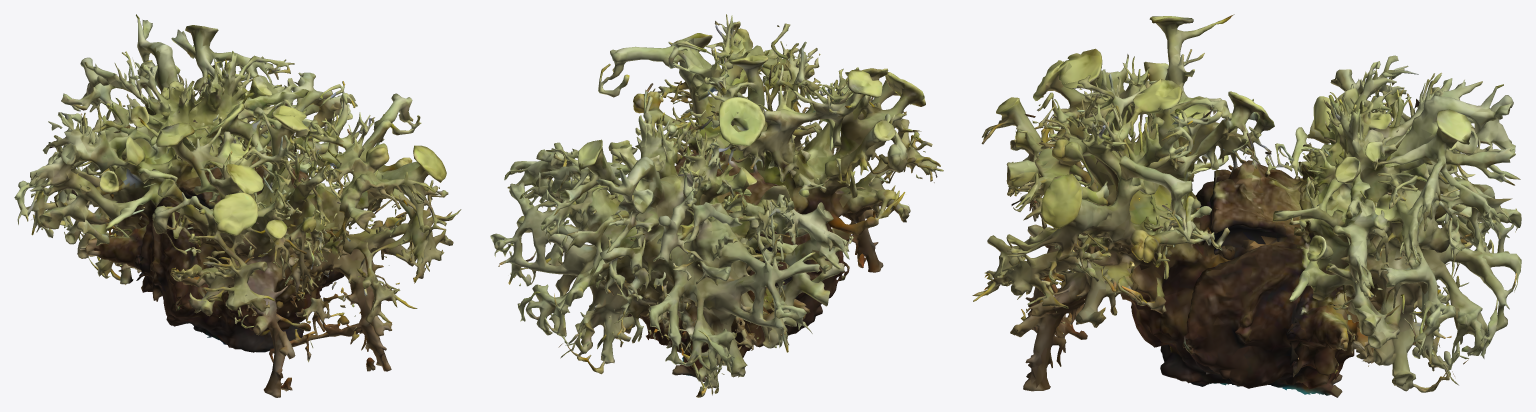
The model's file is liquen6.glb.
The picture shows the model from 3 angles, left to right: view 1: azimuth 30°, elevation 25°; view 2: azimuth 150°, elevation 25°; view 3: azimuth 270°, elevation 25°; orthographic projection. The views are drawn at different scales.
Visible parts, largest first — view 1: tripo_node_6d63365c-35cb-4871-9de4-554fbb93e129; view 2: tripo_node_6d63365c-35cb-4871-9de4-554fbb93e129; view 3: tripo_node_6d63365c-35cb-4871-9de4-554fbb93e129.
Part boxes in pixels (box(x1,y1,x2,y2)): tripo_node_6d63365c-35cb-4871-9de4-554fbb93e129: box(14, 14, 461, 397); tripo_node_6d63365c-35cb-4871-9de4-554fbb93e129: box(490, 14, 943, 397); tripo_node_6d63365c-35cb-4871-9de4-554fbb93e129: box(972, 14, 1521, 397).
Size of the model in its own units: 0.835 by 0.6483 by 1.
Materials: 1 (1 with a texture image).
